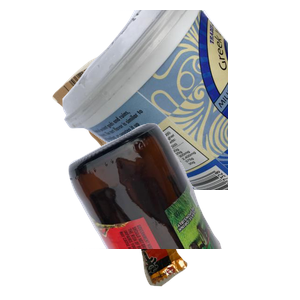cardboard: (50, 38, 233, 184)
glass: (66, 120, 300, 300)
plastic: (60, 10, 300, 190)
trash: (103, 147, 300, 300)
